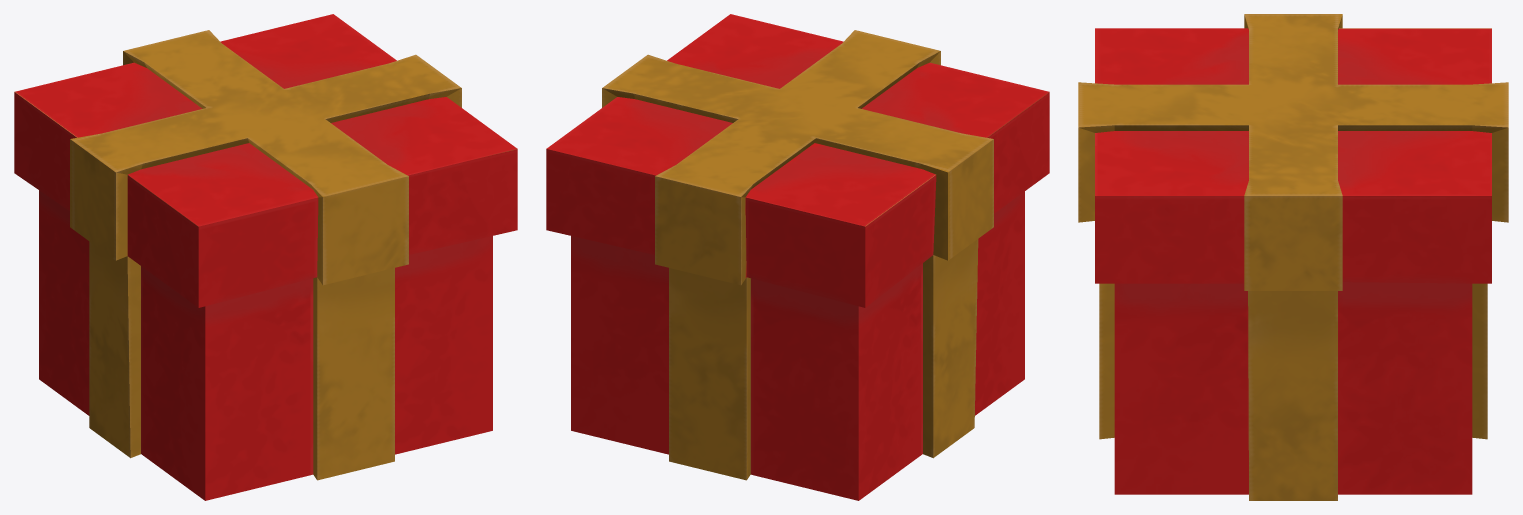
Rendered from MailKit_GiftBox.fbx.
3 views of the same model, side by side, from view 1: azimuth 30°, elevation 25°; view 2: azimuth 150°, elevation 25°; view 3: azimuth 270°, elevation 25° (orthographic). The views are drawn at different scales.
Visible parts, largest first — view 1: GiftBox; view 2: GiftBox; view 3: GiftBox.
Boxes of the visible parts, bbox=[...] form: GiftBox: bbox=[14, 14, 517, 500]; GiftBox: bbox=[546, 14, 1049, 500]; GiftBox: bbox=[1078, 14, 1508, 500].
Bounding box in the file's own units: 44.49 × 35.82 × 44.49.
Materials: 1 (1 with a texture image).
